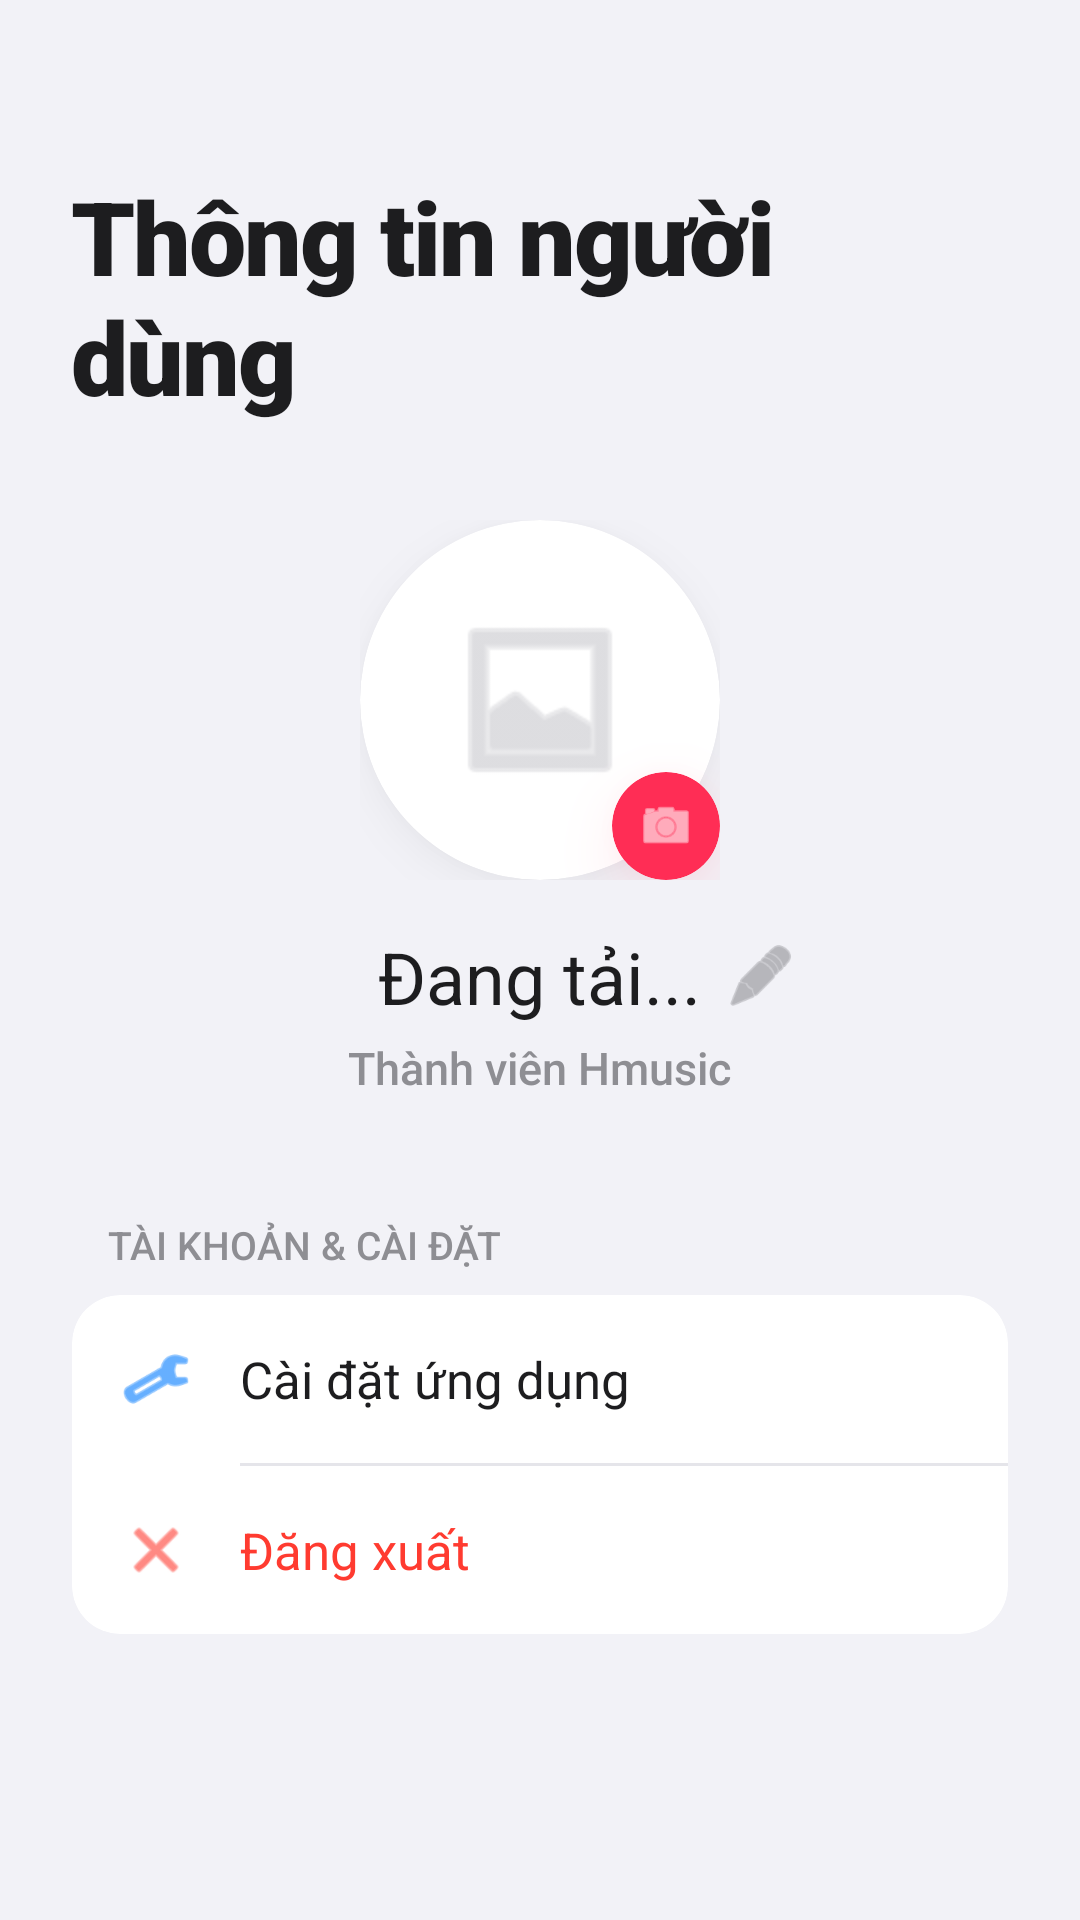

Icon click points for this 1080w x 1920h phone screenshot, format [x,y]:
close clear cancel: [156,1550]
edit: [761,975]
preferences: [155,1379]
